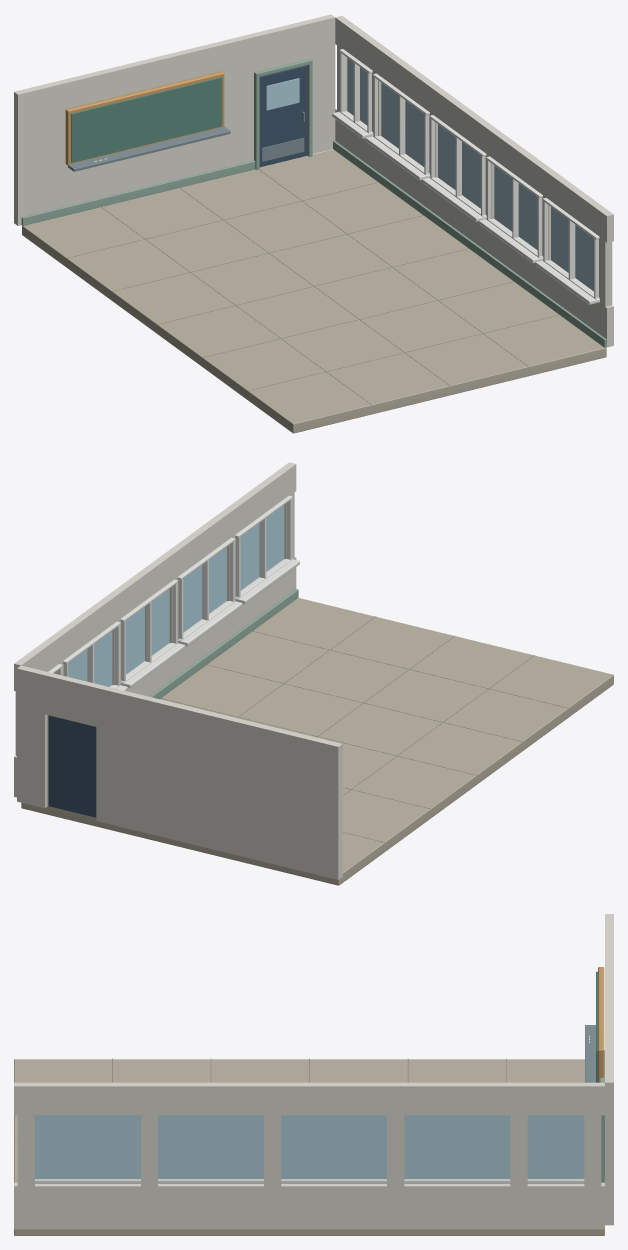
Rendered from classroom.glb.
The picture shows the model from 3 angles, top to bottom: view 1: azimuth 30°, elevation 25°; view 2: azimuth 150°, elevation 25°; view 3: azimuth 270°, elevation 25°; orthographic projection. The views are drawn at different scales.
Visible parts, largest first — view 1: Classroom_Floor, North_Main_Wall, East_Wall_Upper, Chalkboard_Surface, East_Wall_Lower, North_Door_Right_Pier, Door_Leaf, East_Skirting, North_Skirting, Window_Blue_Pane.001, Window_Blue_Pane.003, North_Door_Lintel (+14 smaller); view 2: Classroom_Floor, North_Main_Wall, East_Wall_Upper, Door_Leaf, North_Door_Right_Pier, East_Wall_Lower, North_Door_Lintel, Window_Blue_Pane, Window_Blue_Pane.001, Window_Blue_Pane.002, East_Skirting, Window_Blue_Pane.003 (+3 smaller); view 3: East_Wall_Lower, East_Wall_Upper, Classroom_Floor, Window_Blue_Pane.003, Window_Blue_Pane, Window_Blue_Pane.001, Window_Blue_Pane.002, Window_Blue_Pane.004, North_Door_Right_Pier, Window_Structural_Pier.004, Window_Structural_Pier.003, Window_Structural_Pier.005 (+10 smaller).
Part boxes in pixels (<box>): Classroom_Floor: <box>22,149,606,433</box>; North_Main_Wall: <box>14,33,256,225</box>; East_Wall_Upper: <box>335,15,613,242</box>; Chalkboard_Surface: <box>71,77,222,162</box>; East_Wall_Lower: <box>335,109,613,347</box>; North_Door_Right_Pier: <box>304,14,335,153</box>; Door_Leaf: <box>259,65,307,167</box>; East_Skirting: <box>333,141,606,347</box>; North_Skirting: <box>21,160,255,225</box>; Window_Blue_Pane.001: <box>494,165,537,249</box>; Window_Blue_Pane.003: <box>381,83,424,166</box>; North_Door_Lintel: <box>253,21,307,71</box>; Classroom_Floor: <box>21,598,613,885</box>; North_Main_Wall: <box>96,685,342,879</box>; East_Wall_Upper: <box>14,462,296,691</box>; Door_Leaf: <box>48,715,96,817</box>; North_Door_Right_Pier: <box>17,665,48,808</box>; East_Wall_Lower: <box>14,557,296,797</box>; North_Door_Lintel: <box>45,672,99,726</box>; Window_Blue_Pane: <box>240,505,284,590</box>; Window_Blue_Pane.001: <box>183,547,226,632</box>; Window_Blue_Pane.002: <box>126,589,169,674</box>; East_Skirting: <box>149,589,298,699</box>; Window_Blue_Pane.003: <box>68,631,112,686</box>; East_Wall_Lower: <box>14,1182,604,1229</box>; East_Wall_Upper: <box>14,1082,604,1115</box>; Classroom_Floor: <box>14,1059,604,1235</box>; Window_Blue_Pane.003: <box>404,1115,510,1179</box>; Window_Blue_Pane: <box>35,1115,140,1179</box>; Window_Blue_Pane.001: <box>158,1115,263,1179</box>; Window_Blue_Pane.002: <box>281,1115,386,1179</box>; Window_Blue_Pane.004: <box>527,1115,584,1179</box>; North_Door_Right_Pier: <box>605,1068,613,1225</box>; Window_Structural_Pier.004: <box>510,1109,527,1187</box>; Window_Structural_Pier.003: <box>387,1108,404,1186</box>; Window_Structural_Pier.005: <box>584,1109,601,1186</box>.
Size of the model in its own units: 8.27 by 3.44 by 12.18.
